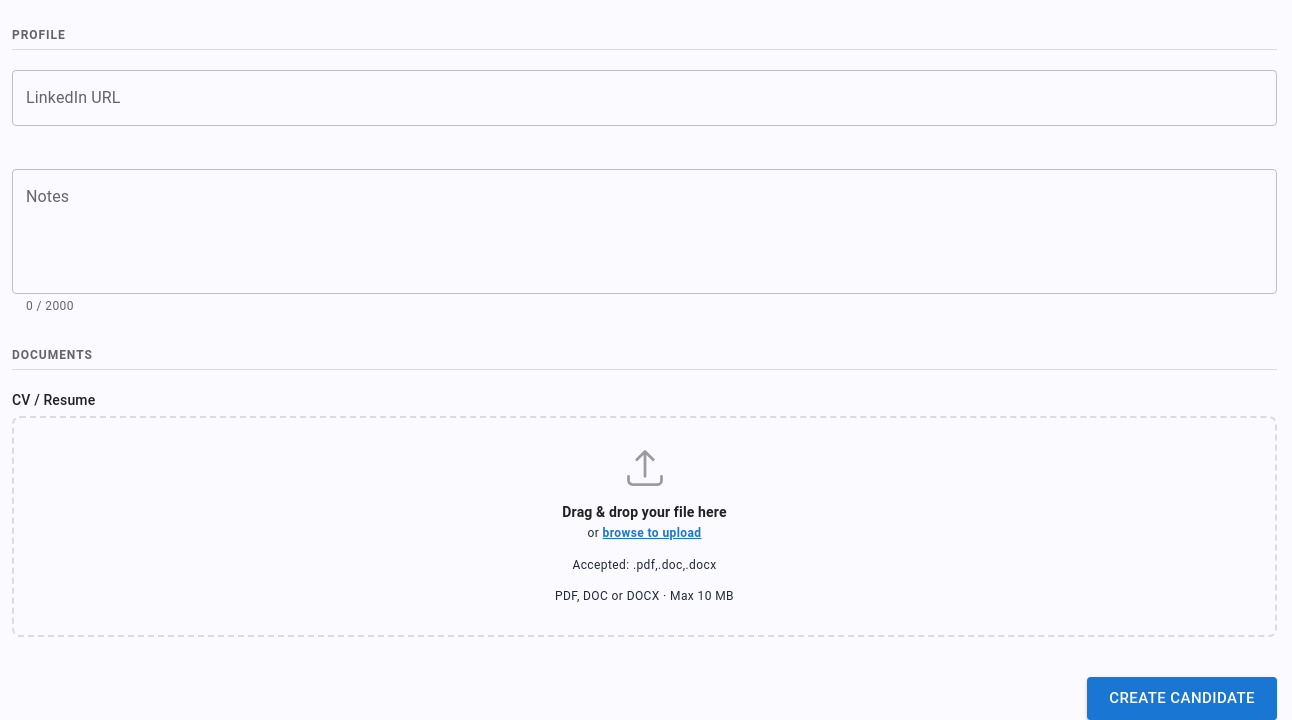
Test case: shows required errors when submitting empty form
The width and height of the screenshot is (1292, 720).
(page scrolled)
What coordinates should you click on to do the following:
click the button "Create candidate"
I would click on:
 (1182, 699)
Its box is [1087,677,1277,719].
(page scrolled)
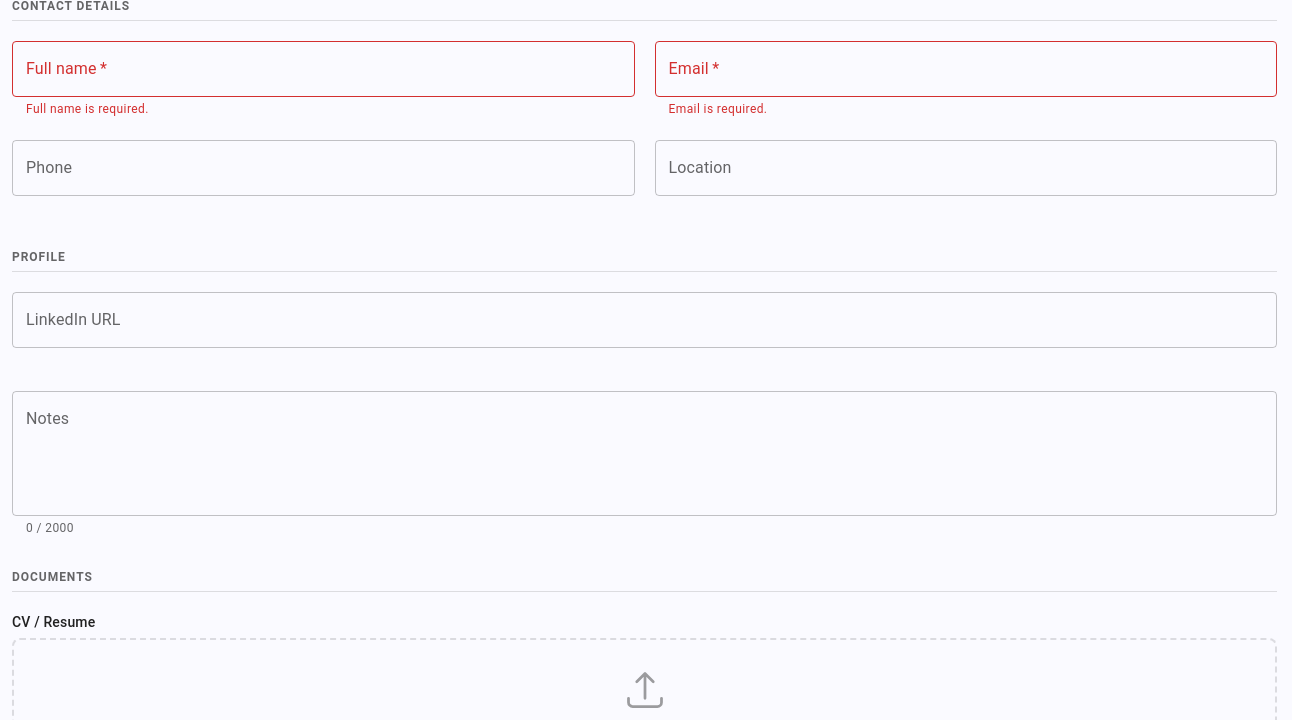
Check: the text "Full name is required." is shown, box [26,102,149,116]
Check: the text "Email is required." is shown, box [668,102,767,116]
